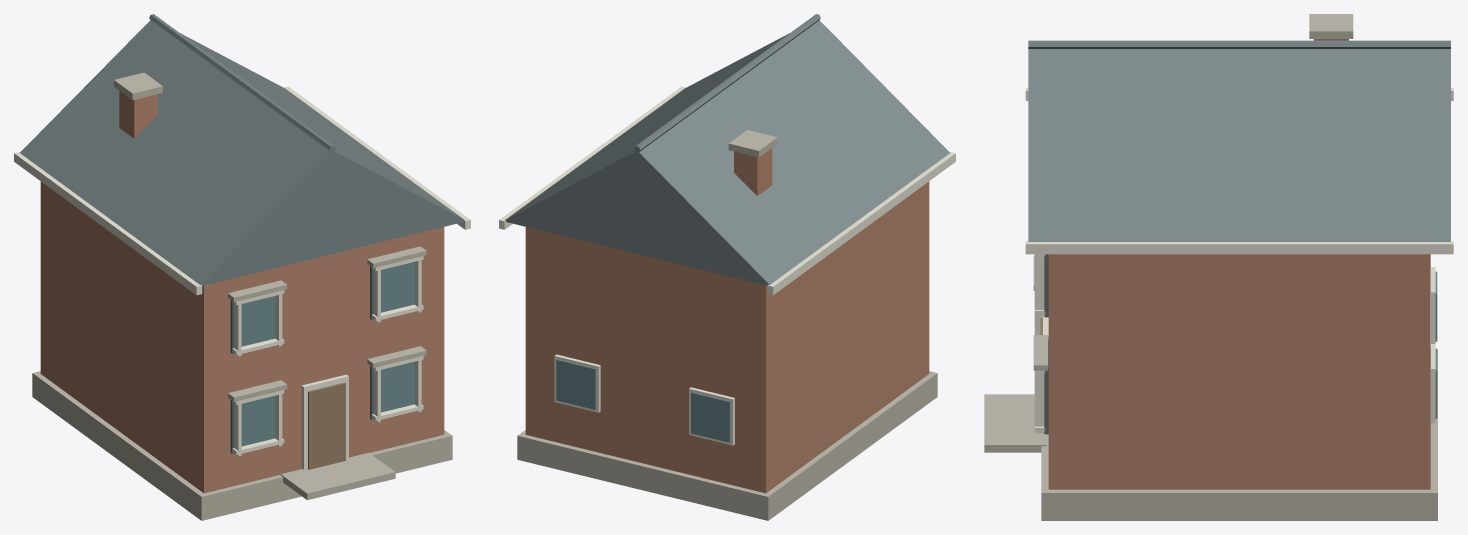
The picture shows the model from 3 angles, left to right: view 1: azimuth 30°, elevation 25°; view 2: azimuth 150°, elevation 25°; view 3: azimuth 270°, elevation 25°; orthographic projection. The views are drawn at different scales.
Size of the model in its own units: 7.76 by 9.41 by 9.82.
